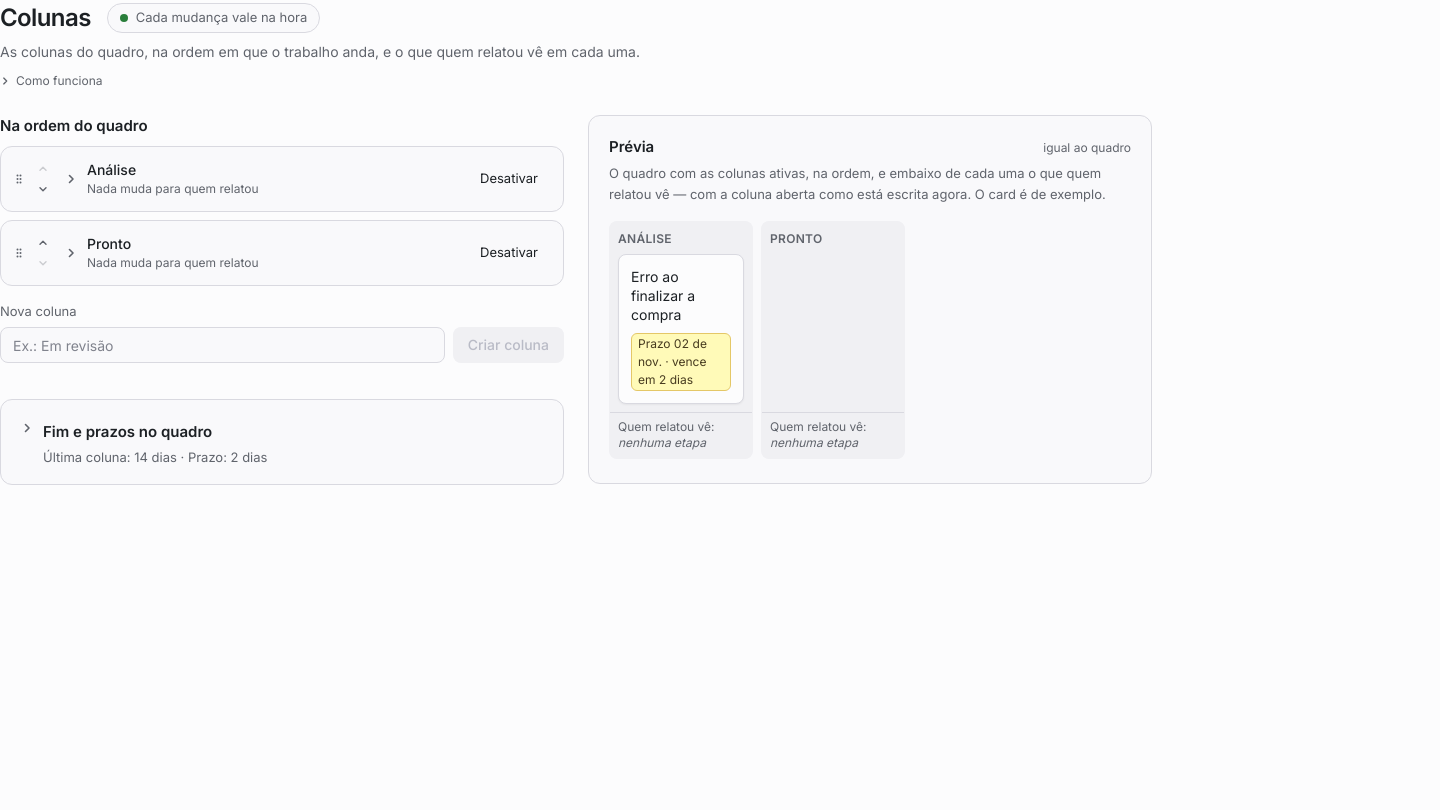
Test: ProjectStatesScreen › desativar mantém a coluna na lista, marcada
What coordinates should you click on to do the following:
click the button with aria-label "Desativar Pronto"
I would click on:
 (509, 252)
Its box is [467,236,551,268].
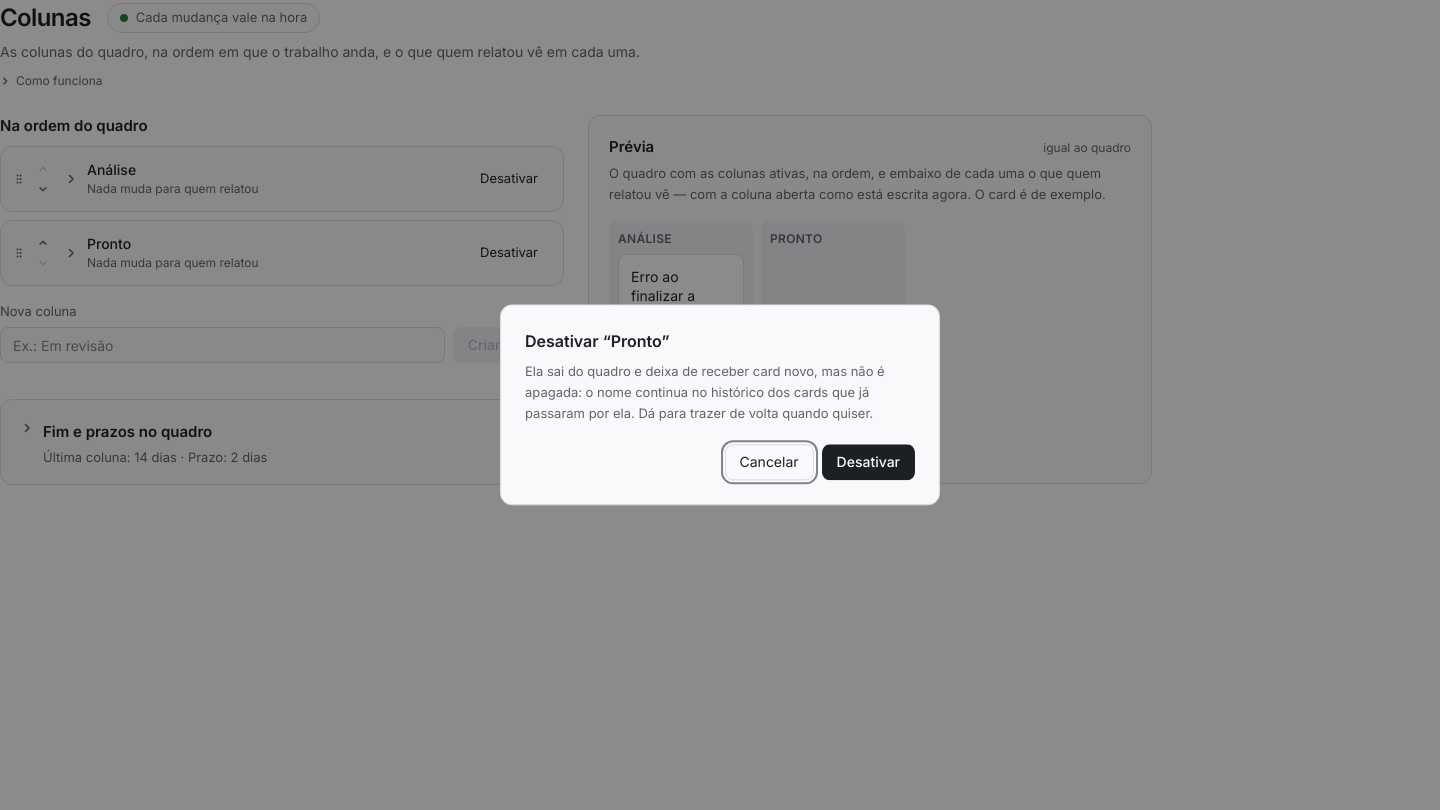
What coordinates should you click on to do the following:
click the button "Desativar"
I would click on:
 (868, 463)
Its box is [822,445,915,481].
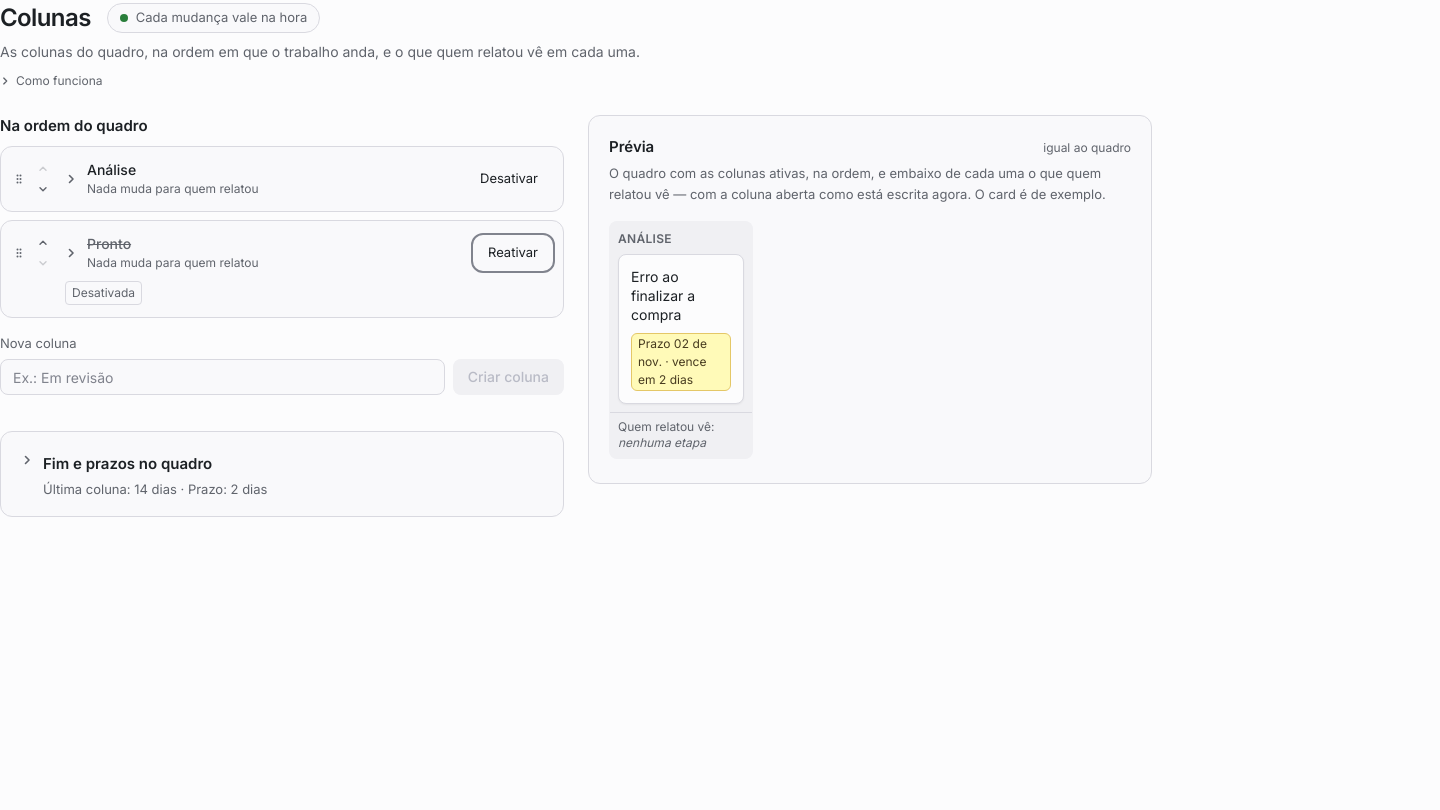
Expected: the text "Desativada" is shown, [65,280,142,304]
Expected: the button with aria-label "Reativar Pronto" is shown, [475,236,551,268]
